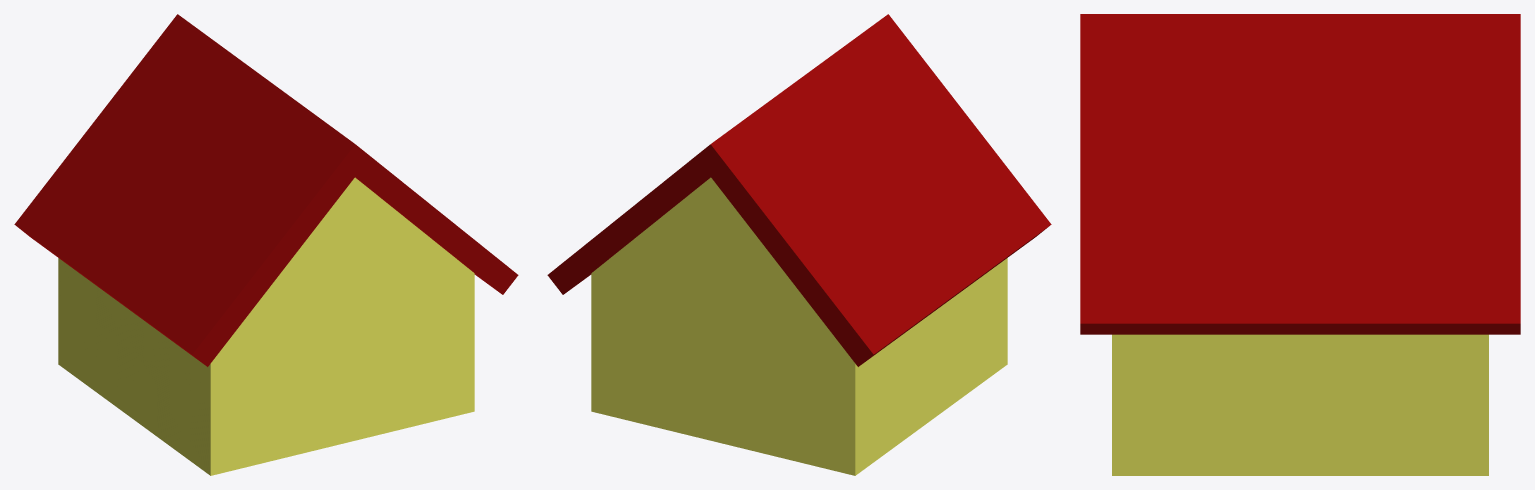
The model's file is huisje.gltf.
3 views of the same model, side by side, from view 1: azimuth 30°, elevation 25°; view 2: azimuth 150°, elevation 25°; view 3: azimuth 270°, elevation 25° (orthographic). The views are drawn at different scales.
Visible parts, largest first — view 1: root; view 2: root; view 3: root.
Part boxes in pixels (box(x1,y1,x2,y2)): root: box(14, 14, 518, 475); root: box(547, 14, 1051, 475); root: box(1080, 14, 1520, 475).
Size of the model in its own units: 7.41 by 6.71 by 7.
